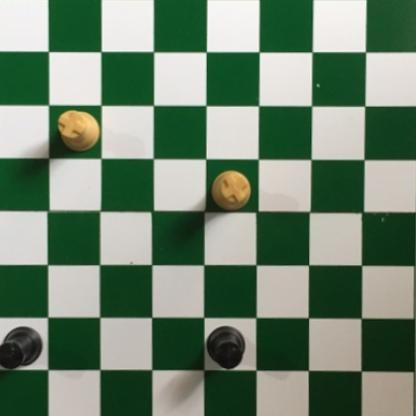black-rook: (0, 324, 46, 369), (205, 323, 247, 369)
white-rook: (58, 104, 99, 153), (205, 168, 251, 211)
